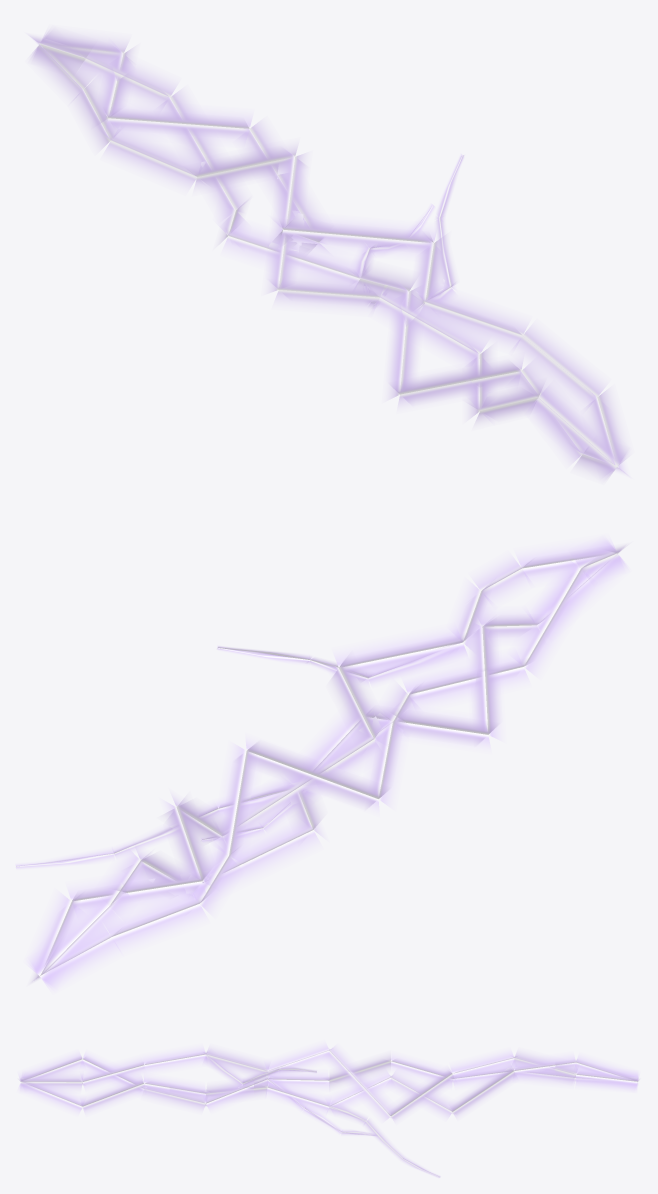
Rendered from fx_arc.glb.
The picture shows the model from 3 angles, top to bottom: view 1: azimuth 30°, elevation 25°; view 2: azimuth 150°, elevation 25°; view 3: azimuth 270°, elevation 25°; orthographic projection. The views are drawn at different scales.
Visible parts, largest first — view 1: Arc2, Arc1, Arc3; view 2: Arc2, Arc1, Arc3; view 3: Arc2, Arc3, Arc1.
Part boxes in pixels (bbox=[...]): Arc2: bbox=[32, 31, 628, 473]; Arc1: bbox=[30, 35, 626, 477]; Arc3: bbox=[30, 32, 625, 478]; Arc2: bbox=[29, 540, 623, 982]; Arc1: bbox=[33, 541, 625, 988]; Arc3: bbox=[15, 543, 626, 986]; Arc2: bbox=[19, 1043, 639, 1121]; Arc3: bbox=[18, 1055, 639, 1177]; Arc1: bbox=[19, 1052, 637, 1135].
Size of the model in its own units: 0.2821 by 0.1574 by 1.02.
Materials: 3 (3 with a texture image).
